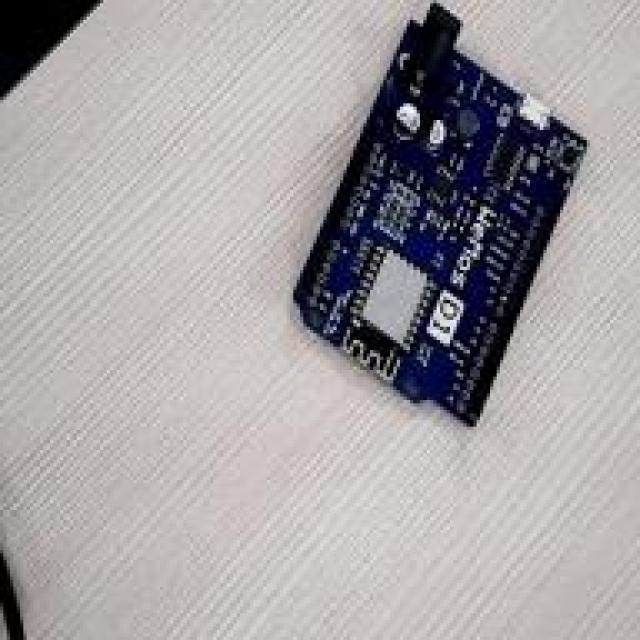Wemos: (294, 4, 584, 421)
